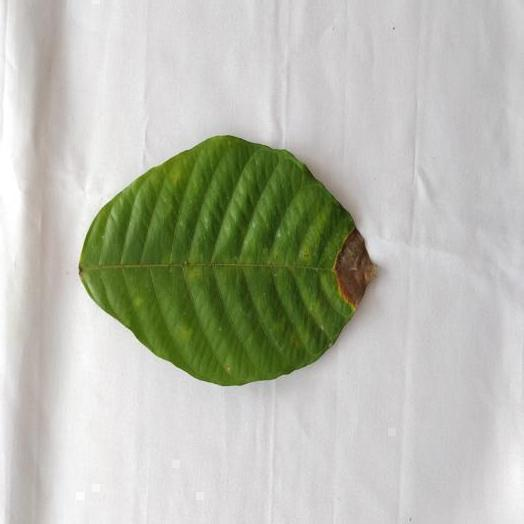Potassium: (81, 136, 373, 385)
